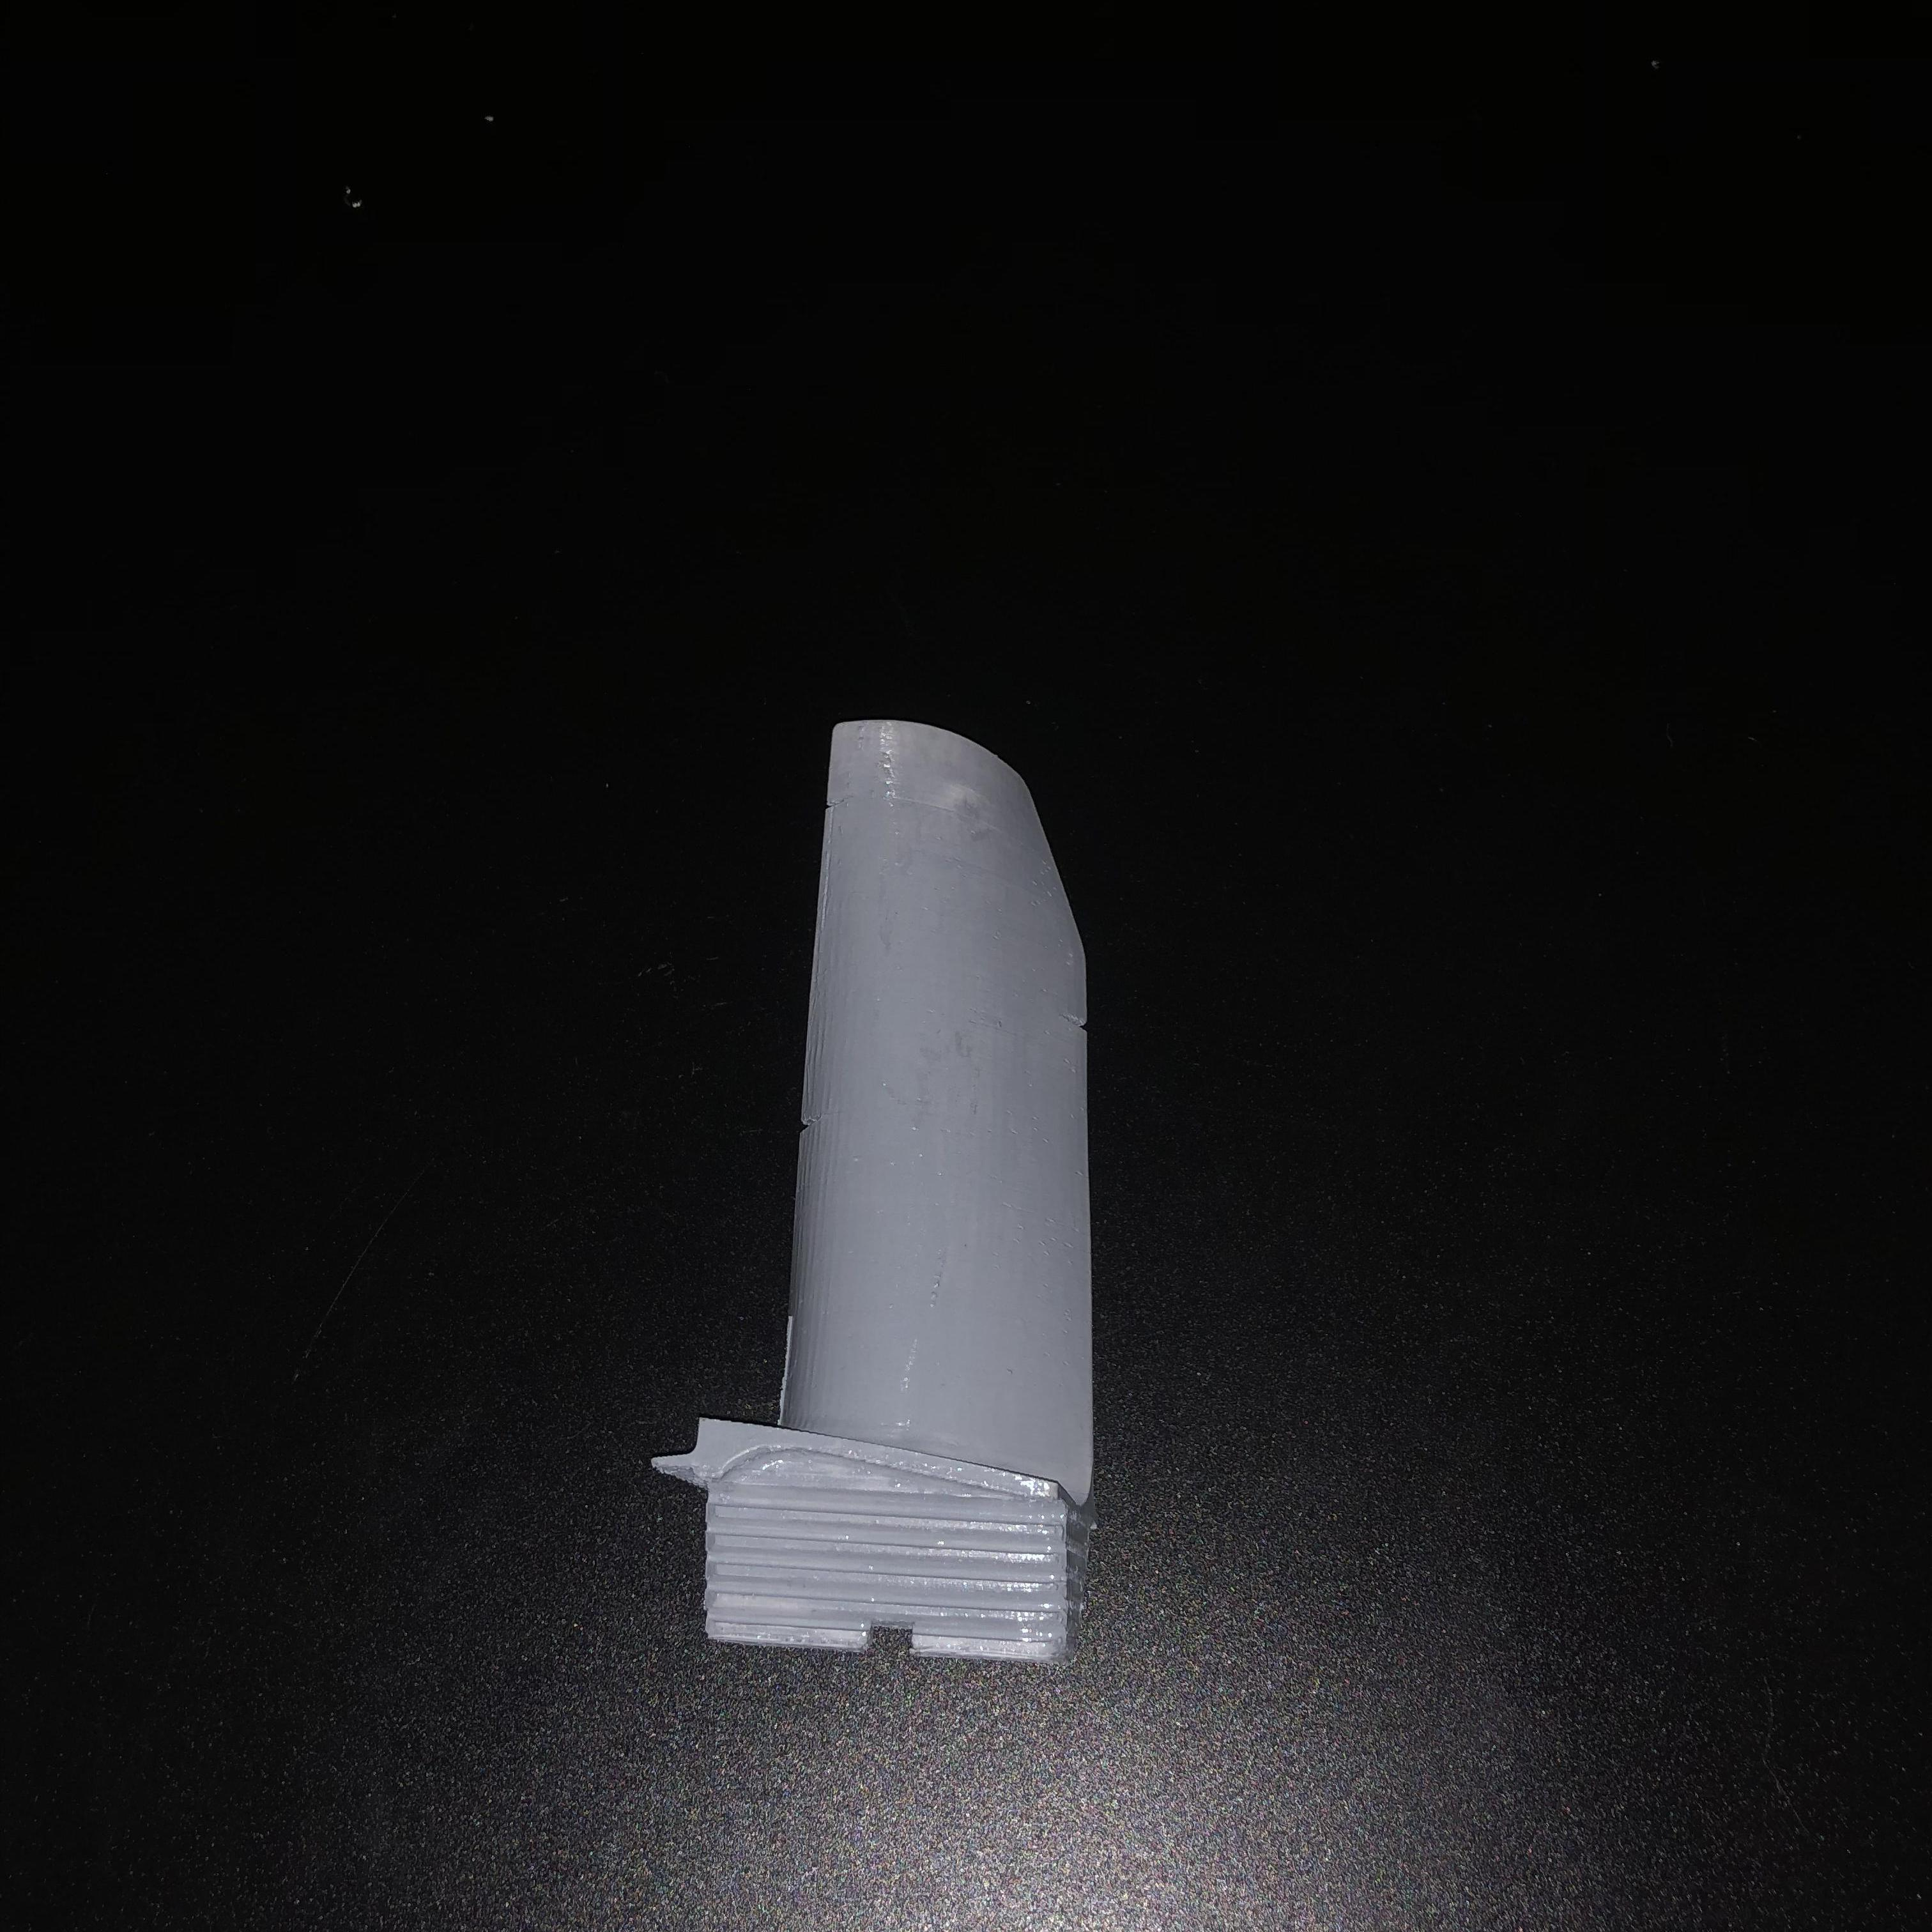groove: (796, 1104, 821, 1143), (1076, 1007, 1099, 1047)
